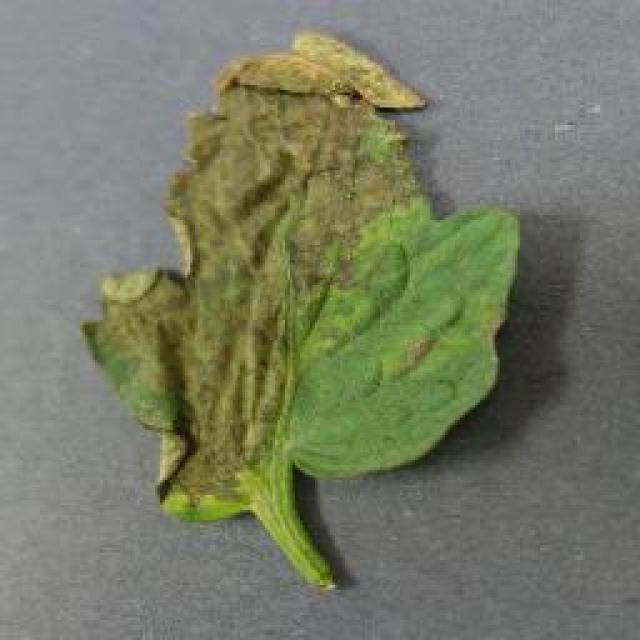Tomato___Bacterial_spot: (80, 24, 532, 602)
